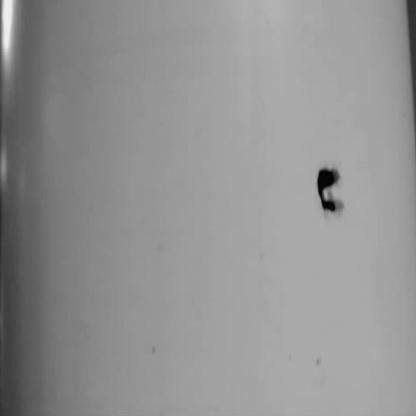kongdong: (307, 153, 349, 223)
